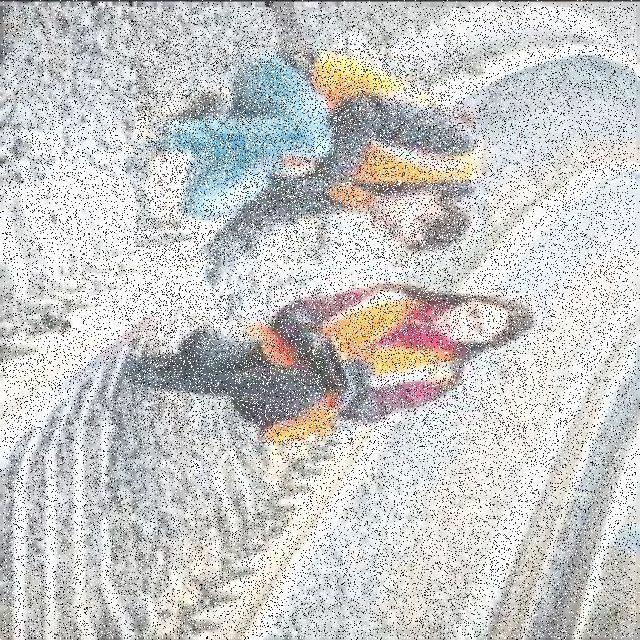rail: (4, 8, 637, 639)
